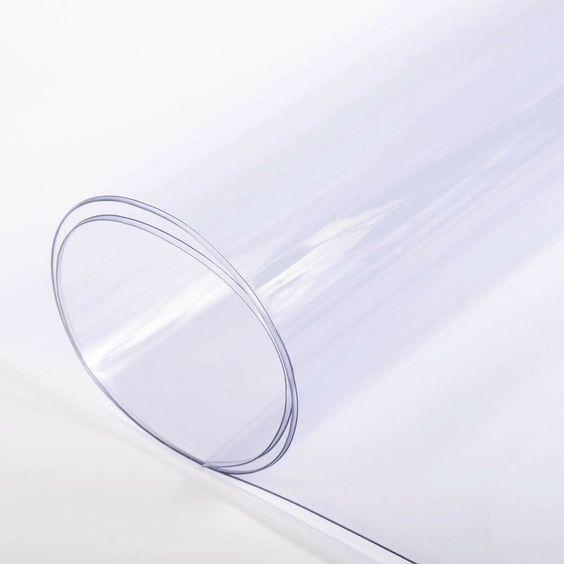PVC: (0, 0, 564, 549)
